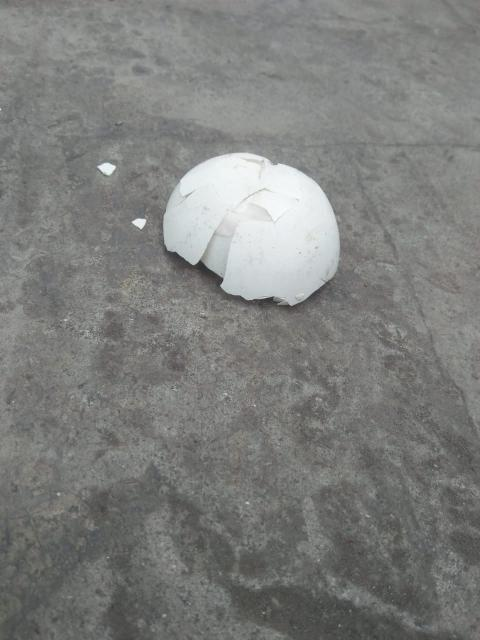Roto: (162, 150, 341, 307)
